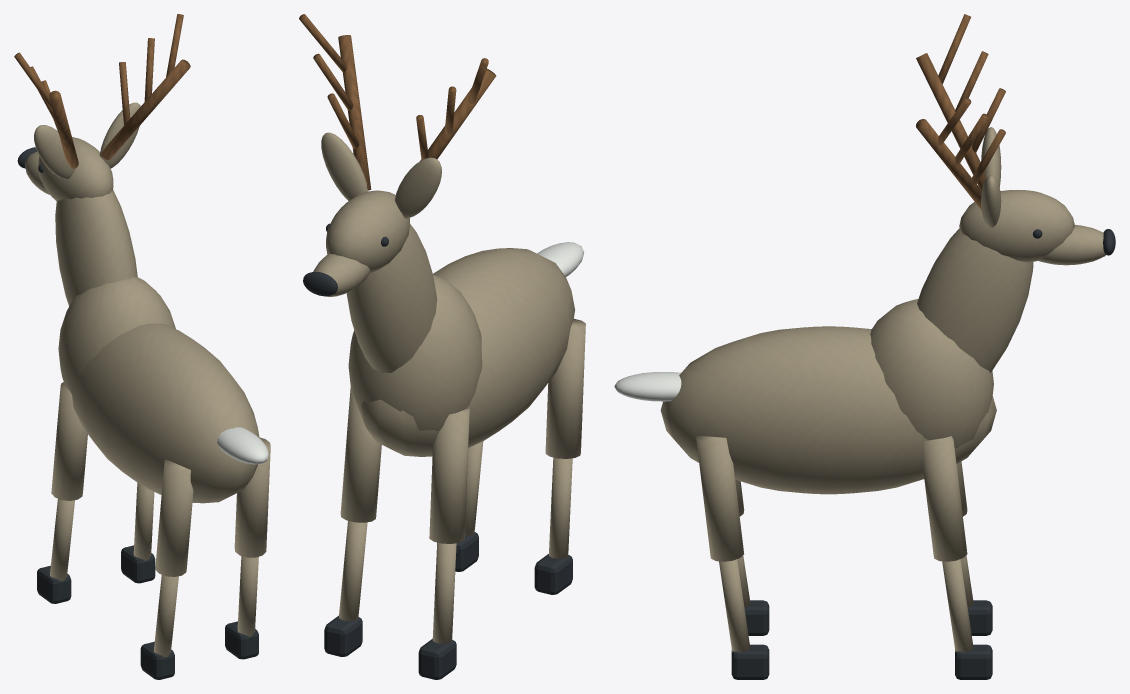
Rendered from mc_deer.glb.
The picture shows the model from 3 angles, left to right: view 1: azimuth 30°, elevation 25°; view 2: azimuth 150°, elevation 25°; view 3: azimuth 270°, elevation 25°; orthographic projection. The views are drawn at different scales.
Visible parts, largest first — view 1: mc_deer__Geometry; view 2: mc_deer__Geometry; view 3: mc_deer__Geometry.
Part boxes in pixels (bbox=[...]): mc_deer__Geometry: bbox=[14, 14, 270, 679]; mc_deer__Geometry: bbox=[299, 14, 585, 679]; mc_deer__Geometry: bbox=[614, 14, 1115, 679].
Size of the model in its own units: 0.723 by 2.28 by 1.73.
Materials: 4 (2 with a texture image).
